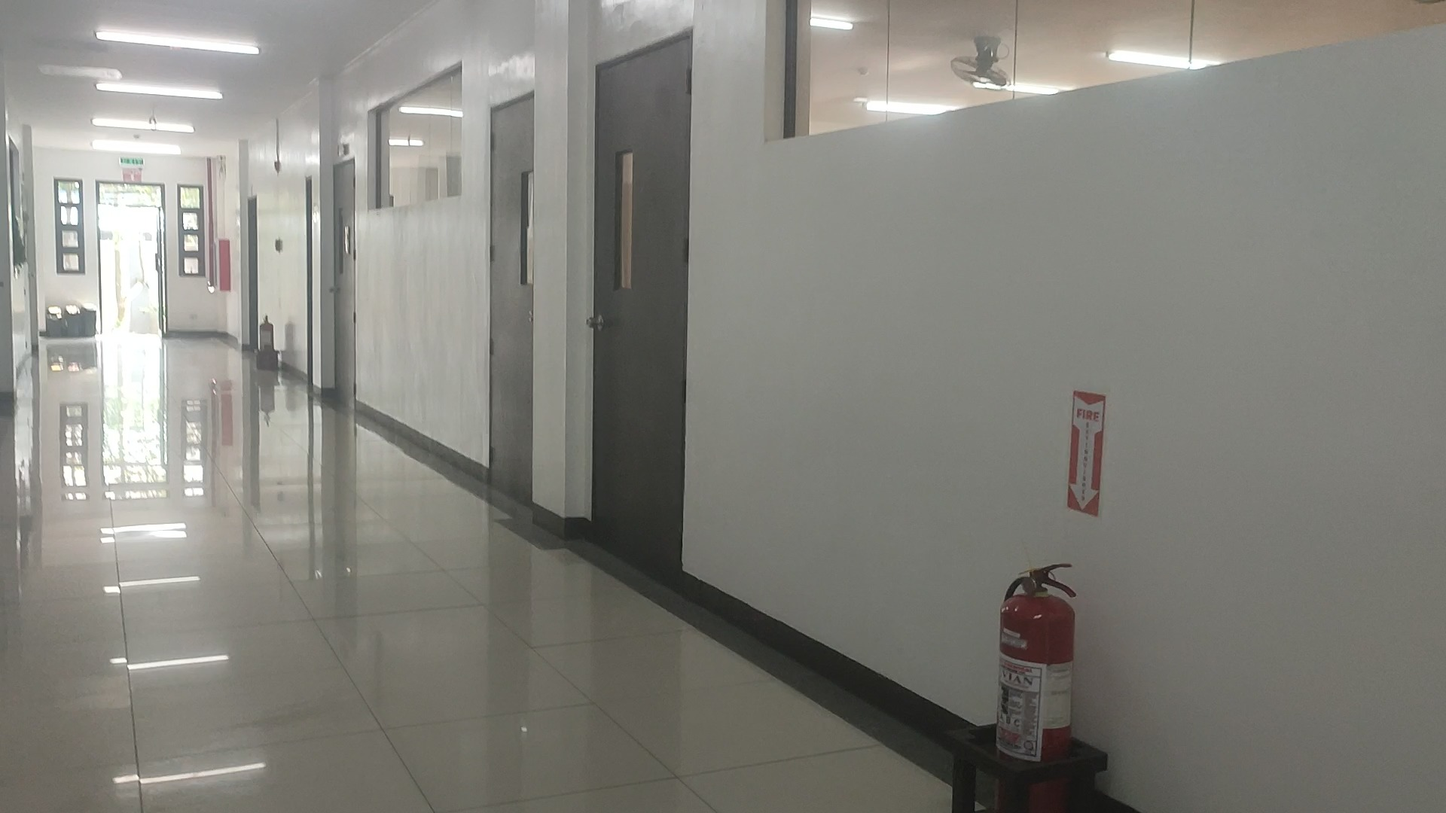door: (590, 32, 692, 574), (489, 78, 535, 508)
